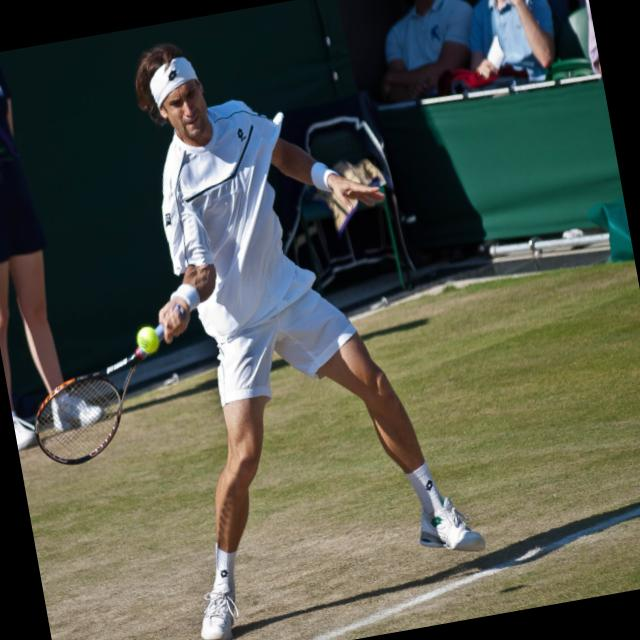Tennis Ball: (134, 326, 158, 354)
